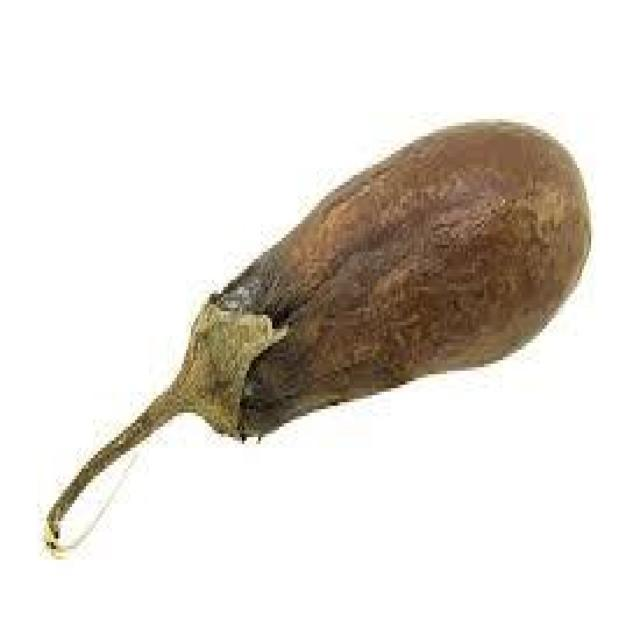eggplant: (48, 119, 592, 541)
